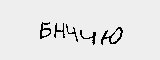А: (91, 12, 111, 34)
Б: (34, 13, 52, 38)
И: (16, 16, 36, 37)
Ч: (53, 10, 69, 30)
Ш: (111, 12, 147, 35)
Ұ: (71, 10, 89, 30)
